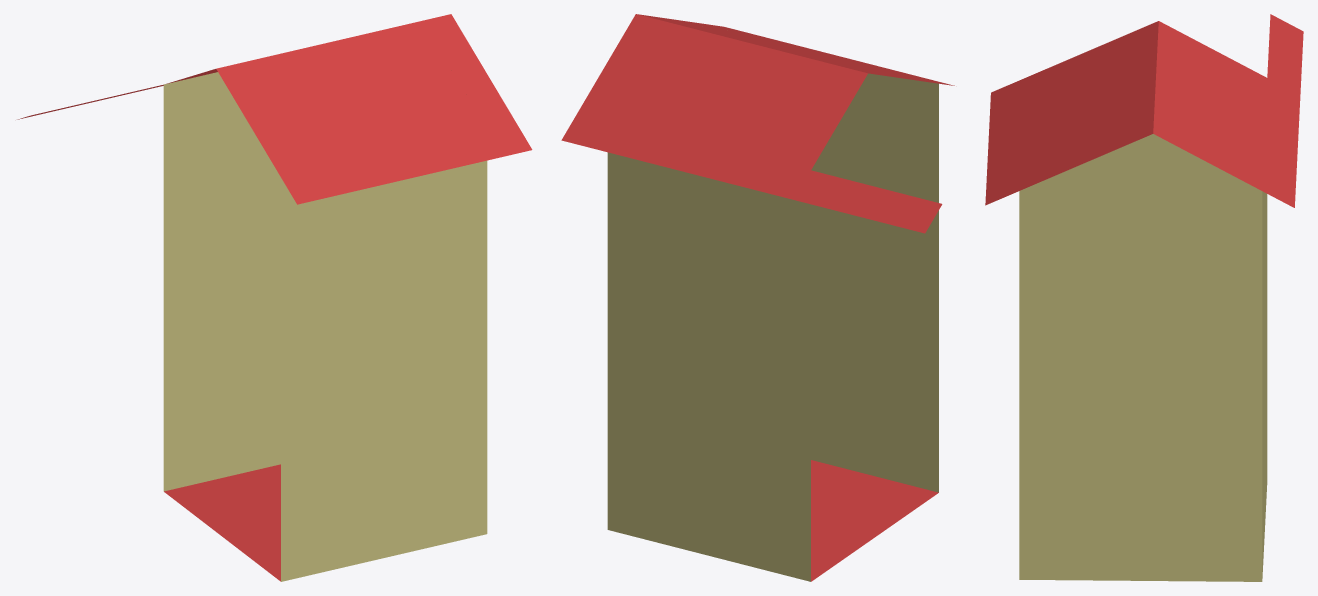
The picture shows the model from 3 angles, left to right: view 1: azimuth 30°, elevation 25°; view 2: azimuth 150°, elevation 25°; view 3: azimuth 270°, elevation 25°; orthographic projection.
Size of the model in its own units: 6.31 by 4.79 by 7.66.
